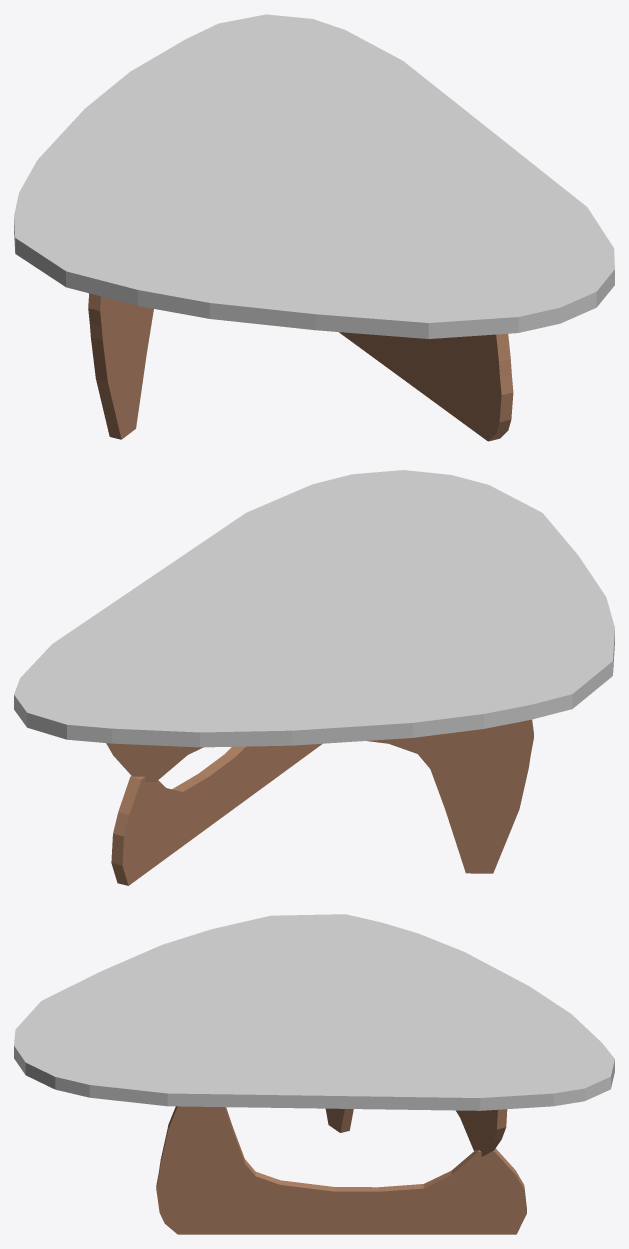
Rendered from NoguchiTable.fbx.
3 views of the same model, one above another, from view 1: azimuth 30°, elevation 25°; view 2: azimuth 150°, elevation 25°; view 3: azimuth 270°, elevation 25° (orthographic). The views are drawn at different scales.
Parts seen in each view (by area): view 1: Cube; view 2: Cube; view 3: Cube.
Part boxes in pixels (left/top/right/bottom): Cube: left=14, top=14, right=614, bottom=441; Cube: left=14, top=470, right=614, bottom=885; Cube: left=14, top=914, right=614, bottom=1234.
Bounding box in the file's own units: 90.5 × 39.82 × 125.
